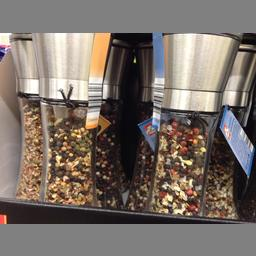spices: (143, 32, 240, 211), (31, 32, 111, 209)
